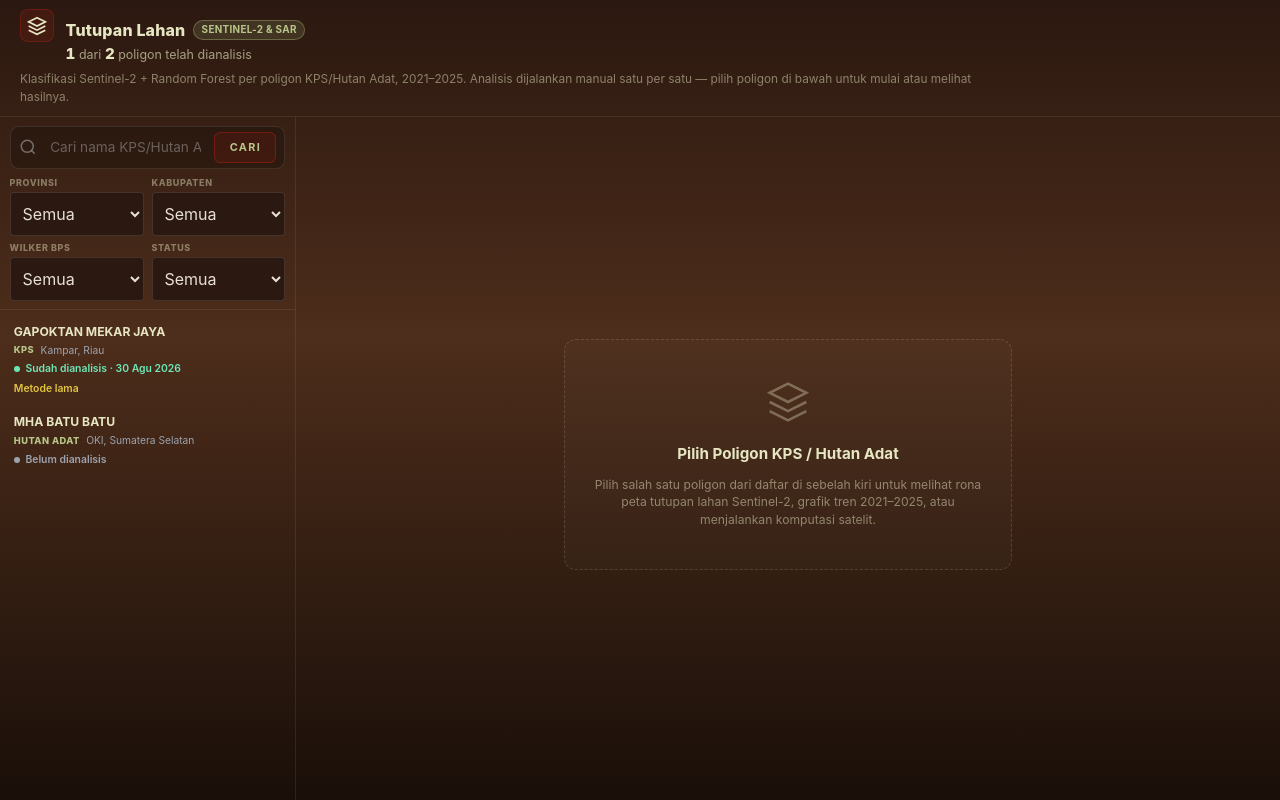
Scenario: TutupanLahanView › filters the list inline by Provinsi and 'Reset filter' restores it
Check: the text "GAPOKTAN MEKAR JAYA" is shown, box [14, 324, 165, 338]
Filter sekarang selalu tampil (bukan popover) -- langsung ubah select.
Select "Sumatera Selatan" in the dropdown labelled "Provinsi": (77, 214) [10, 192, 144, 236]
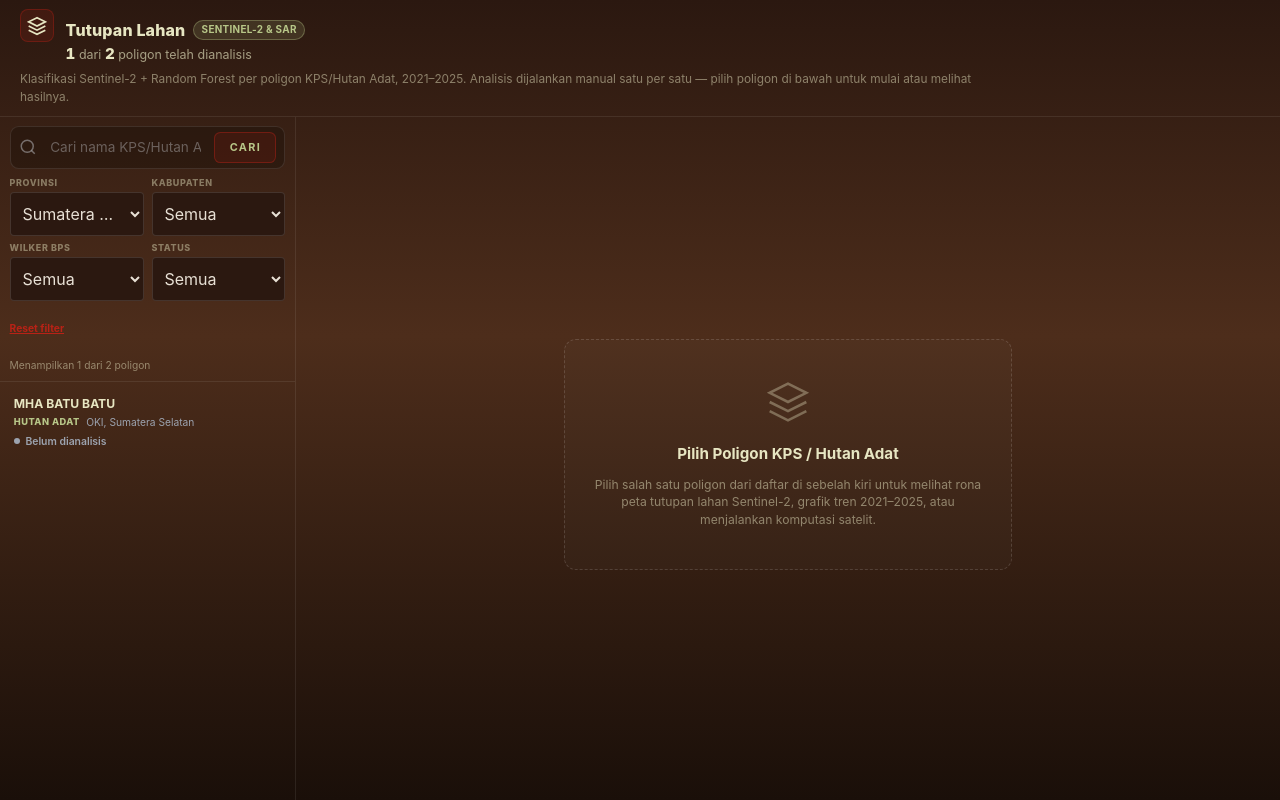
Check: the text "MHA BATU BATU" is shown, box [14, 396, 115, 411]
Check: the button "GAPOKTAN MEKAR JAYA" is gone
Click the button "Reset filter": (37, 328) [10, 306, 64, 350]
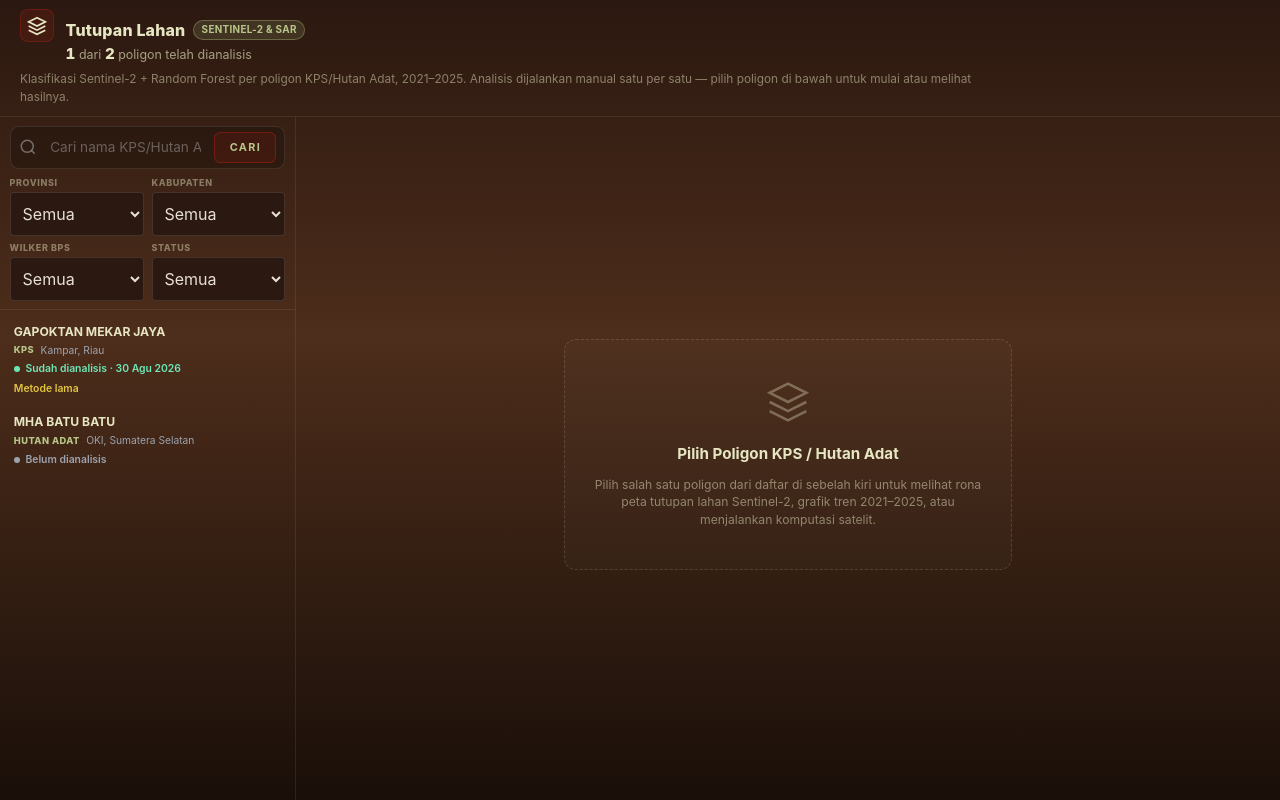
Check: the text "GAPOKTAN MEKAR JAYA" is shown, box [14, 324, 165, 338]
